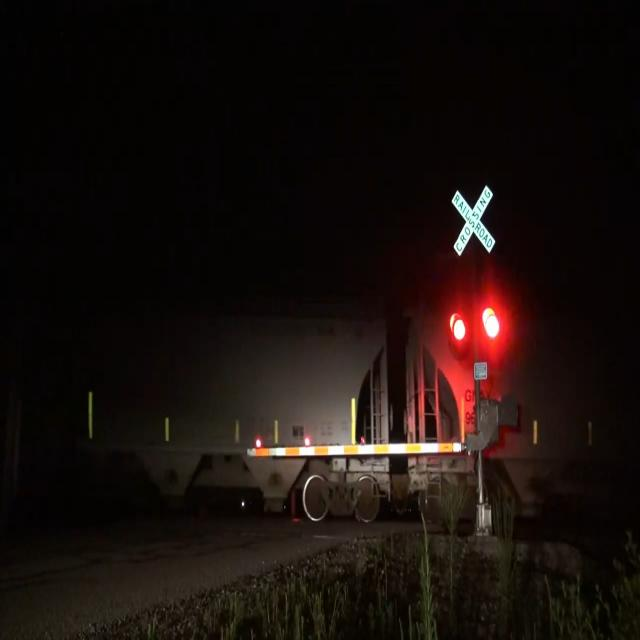hopper: (25, 270, 402, 545), (397, 276, 640, 527)
